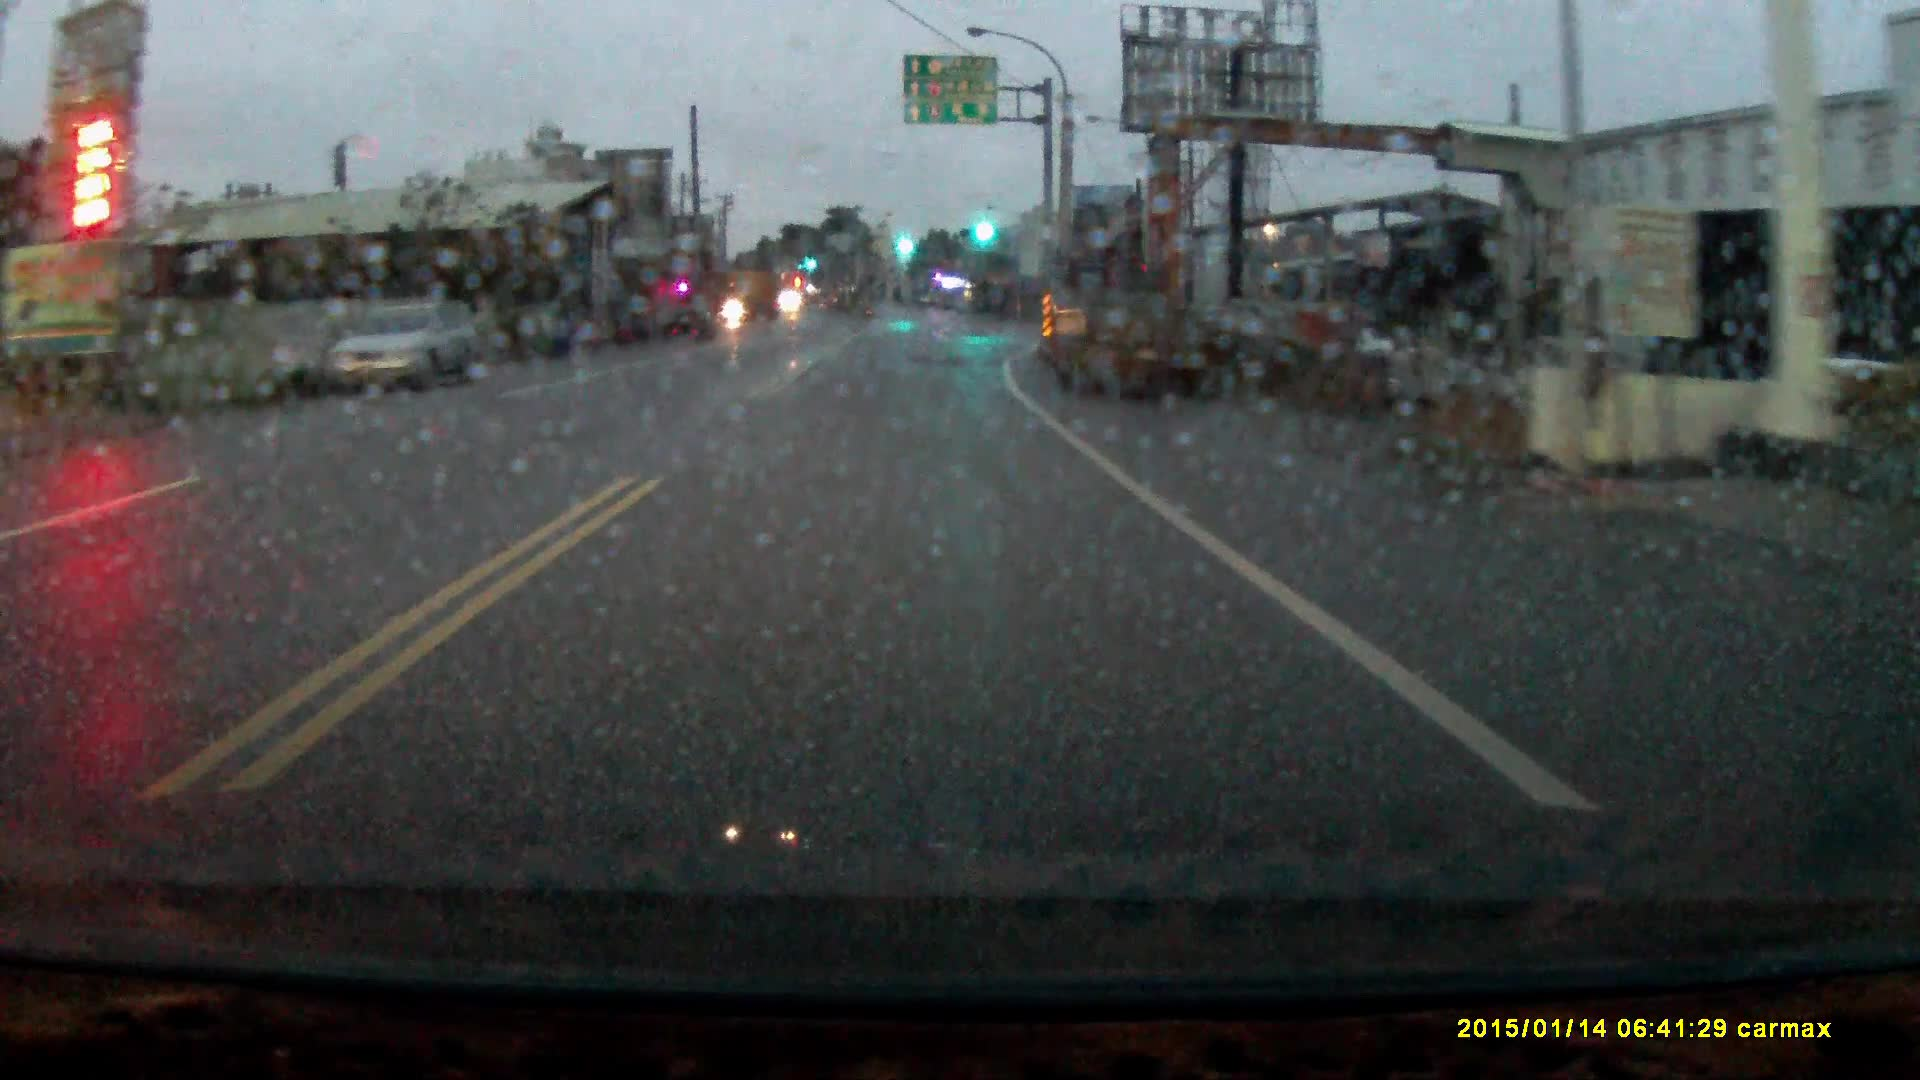vehicle: (1039, 249, 1182, 397), (320, 295, 477, 386), (709, 262, 781, 319)
